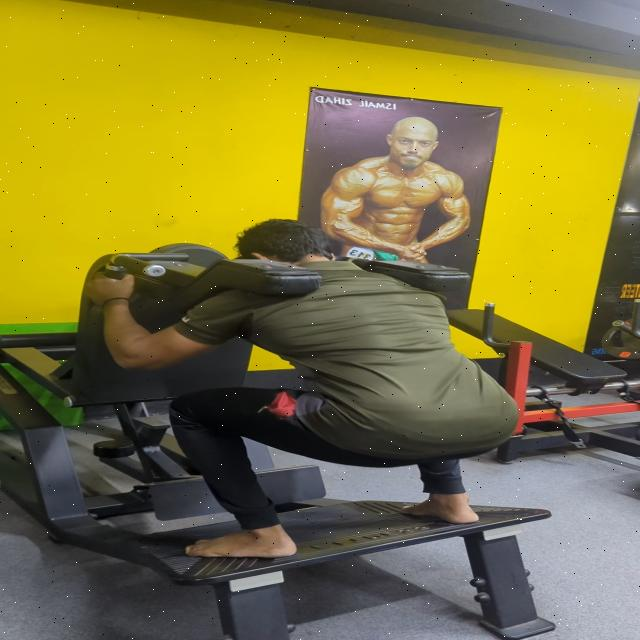Normal_SquatsWithBarbell: (0, 212, 579, 618)
